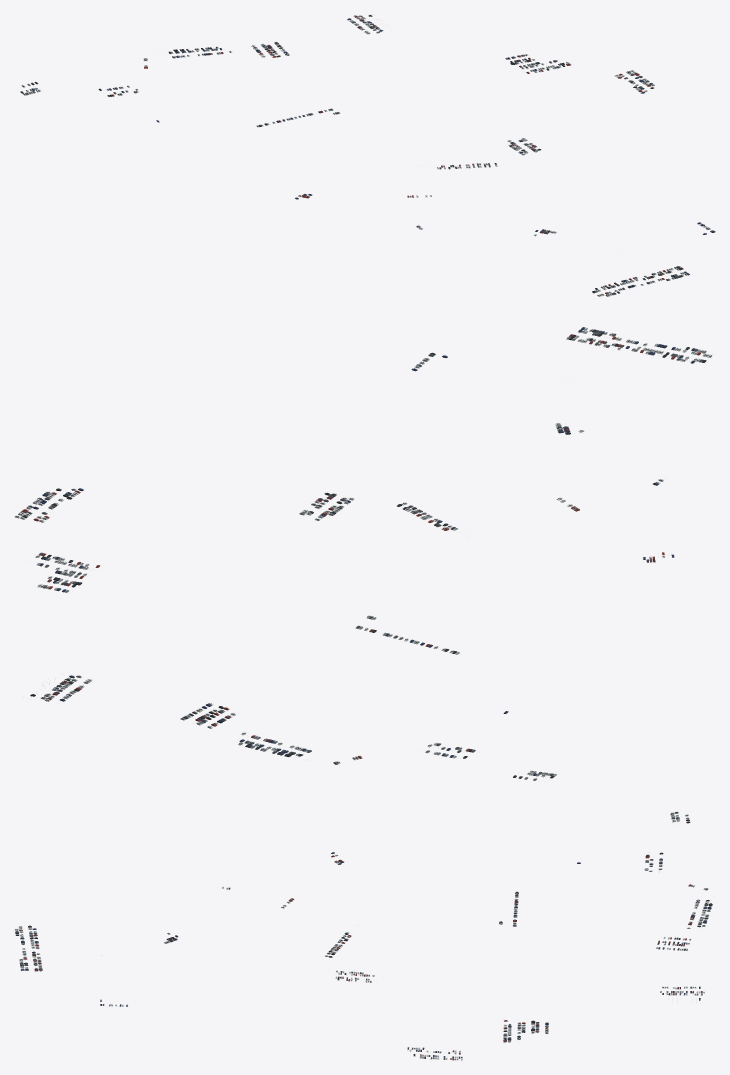
3 renders of one model, top to bottom at view 1: azimuth 30°, elevation 25°; view 2: azimuth 150°, elevation 25°; view 3: azimuth 270°, elevation 25°, orthographic. The views are drawn at different scales.
Visible parts, largest first — view 1: v2-parking-car-glass, v2-parking-car-white, v2-parking-car-silver, v2-parking-car-navy, v2-parking-car-grey; view 2: v2-parking-car-glass, v2-parking-car-white, v2-parking-car-silver, v2-parking-car-navy, v2-parking-car-grey, v2-parking-car-black; view 3: v2-parking-car-glass, v2-parking-car-white, v2-parking-car-silver, v2-parking-car-navy, v2-parking-car-black, v2-parking-car-grey.
Boxes of the visible parts, x1,y1,x2,y2 form: v2-parking-car-glass: (21, 15, 714, 295); v2-parking-car-white: (23, 15, 707, 296); v2-parking-car-silver: (21, 15, 710, 296); v2-parking-car-navy: (31, 18, 706, 294); v2-parking-car-grey: (25, 21, 713, 294); v2-parking-car-glass: (15, 328, 711, 779); v2-parking-car-white: (14, 327, 712, 776); v2-parking-car-silver: (40, 336, 706, 780); v2-parking-car-navy: (33, 327, 695, 775); v2-parking-car-grey: (26, 330, 703, 775); v2-parking-car-black: (21, 329, 706, 778); v2-parking-car-glass: (15, 812, 711, 1059); v2-parking-car-white: (15, 812, 709, 1060); v2-parking-car-silver: (14, 814, 709, 1053); v2-parking-car-navy: (15, 817, 711, 1058); v2-parking-car-black: (15, 812, 712, 1058); v2-parking-car-grey: (15, 813, 710, 1059).
Bounding box in the file's own units: 639 × 31.89 × 816.
